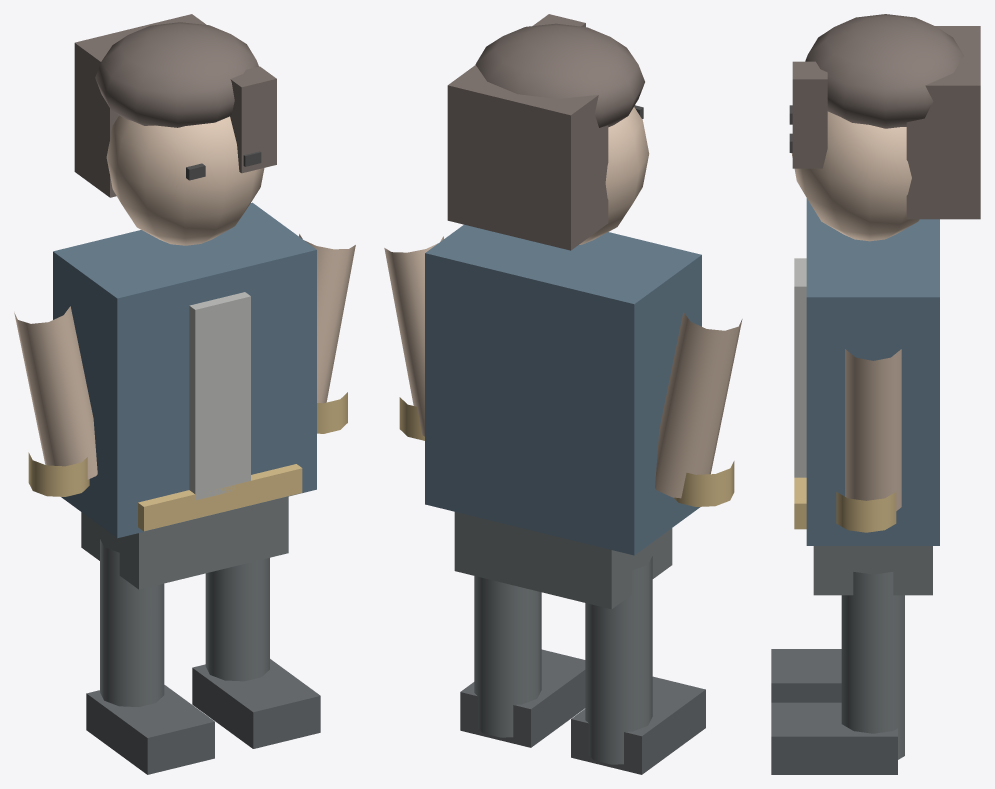
Rendered from toren-vale.glb.
3 renders of one model, left to right at view 1: azimuth 30°, elevation 25°; view 2: azimuth 150°, elevation 25°; view 3: azimuth 270°, elevation 25°, orthographic. The views are drawn at different scales.
Visible parts, largest first — view 1: Torso, Head, HairCap, Vest, Pelvis, ArmL, LegL, FootL, FootR, LegR, HairBack, Belt (+4 smaller); view 2: Torso, HairBack, Pelvis, HairCap, LegL, ArmL, LegR, FootL, FootR, ArmR, Head, CuffL (+1 smaller); view 3: Torso, HairCap, HairBack, Head, LegR, ArmR, FootR, Pelvis, FootL, HairLock, Vest, CuffR (+1 smaller).
Boxes of the visible parts, box(x1,y1,x2,y2) form: Torso: box(53, 202, 316, 538); Head: box(106, 115, 264, 245); HairCap: box(95, 22, 258, 127); Vest: box(189, 292, 250, 500); Pelvis: box(81, 496, 288, 589); ArmL: box(14, 306, 97, 479); LegL: box(100, 539, 164, 707); FootL: box(86, 685, 214, 774); FootR: box(192, 659, 320, 748); LegR: box(205, 558, 269, 681); HairBack: box(74, 14, 206, 197); Belt: box(138, 464, 302, 531); Torso: box(425, 224, 701, 555); HairBack: box(447, 65, 608, 250); Pelvis: box(454, 512, 672, 609); HairCap: box(475, 23, 644, 127); LegL: box(585, 556, 652, 764); ArmL: box(655, 312, 742, 498); LegR: box(474, 576, 541, 737); FootL: box(571, 676, 705, 774); FootR: box(460, 649, 585, 747); ArmR: box(384, 236, 443, 436); Head: box(579, 107, 649, 244); CuffL: box(673, 461, 734, 506); Torso: box(806, 198, 939, 545); HairCap: box(805, 14, 963, 128); HairBack: box(906, 26, 980, 219); Head: box(791, 111, 919, 241); LegR: box(841, 572, 904, 759); ArmR: box(845, 349, 901, 510); FootR: box(771, 702, 897, 774); Pelvis: box(813, 546, 932, 595); FootL: box(771, 649, 841, 702); HairLock: box(792, 61, 827, 168); Vest: box(794, 258, 806, 477); CuffR: box(836, 492, 896, 532).
Size of the model in its own units: 1.14 by 2.21 by 0.595.
